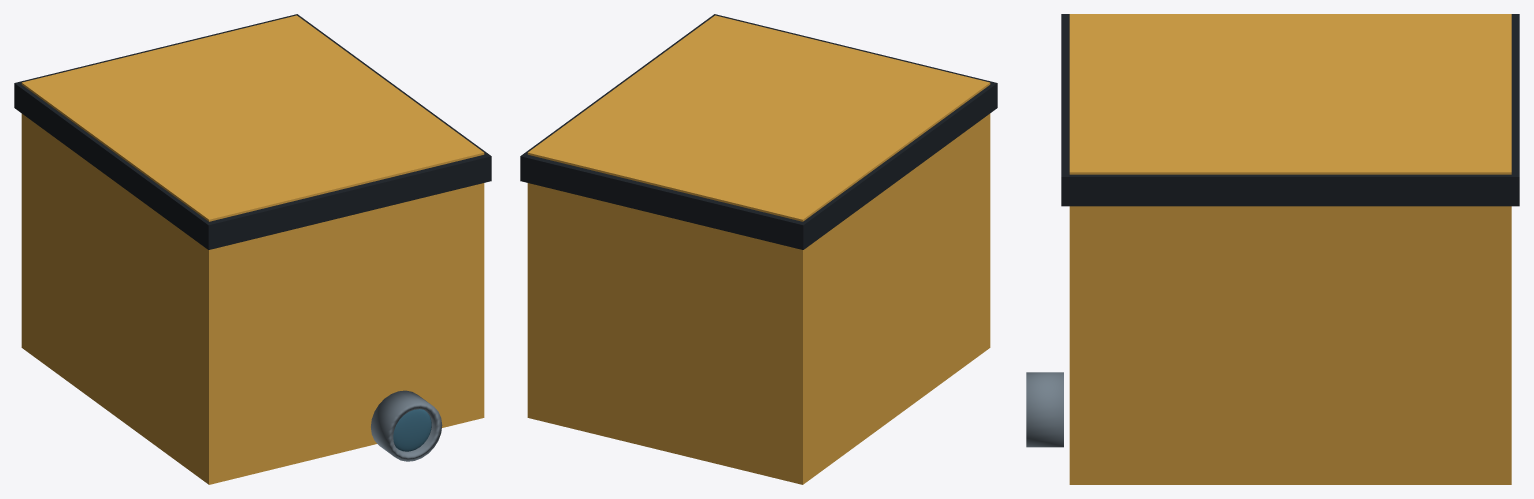
Rendered from ingenuity.electronics.glb.
3 views of the same model, side by side, from view 1: azimuth 30°, elevation 25°; view 2: azimuth 150°, elevation 25°; view 3: azimuth 270°, elevation 25° (orthographic). The views are drawn at different scales.
Visible parts, largest first — view 1: ingenuity.electronics.mesh_Gold_thermal_insulation, ingenuity.electronics.mesh_Carbon_composite, ingenuity.electronics.navigation_camera.mesh_Machined_steel, ingenuity.electronics.navigation_camera.lens.mesh_Coated_opt; view 2: ingenuity.electronics.mesh_Gold_thermal_insulation, ingenuity.electronics.mesh_Carbon_composite; view 3: ingenuity.electronics.mesh_Gold_thermal_insulation, ingenuity.electronics.mesh_Carbon_composite, ingenuity.electronics.navigation_camera.mesh_Machined_steel.
Boxes of the visible parts, bbox=[...] form: ingenuity.electronics.mesh_Gold_thermal_insulation: bbox=[21, 15, 484, 484]; ingenuity.electronics.mesh_Carbon_composite: bbox=[14, 14, 491, 249]; ingenuity.electronics.navigation_camera.mesh_Machined_steel: bbox=[371, 390, 442, 461]; ingenuity.electronics.navigation_camera.lens.mesh_Coated_opt: bbox=[393, 409, 431, 451]; ingenuity.electronics.mesh_Gold_thermal_insulation: bbox=[527, 15, 990, 484]; ingenuity.electronics.mesh_Carbon_composite: bbox=[520, 14, 997, 249]; ingenuity.electronics.mesh_Gold_thermal_insulation: bbox=[1069, 14, 1511, 484]; ingenuity.electronics.mesh_Carbon_composite: bbox=[1061, 14, 1519, 206]; ingenuity.electronics.navigation_camera.mesh_Machined_steel: bbox=[1026, 372, 1063, 447].
Bounding box in the file's own units: 0.143 × 0.132 × 0.183.
